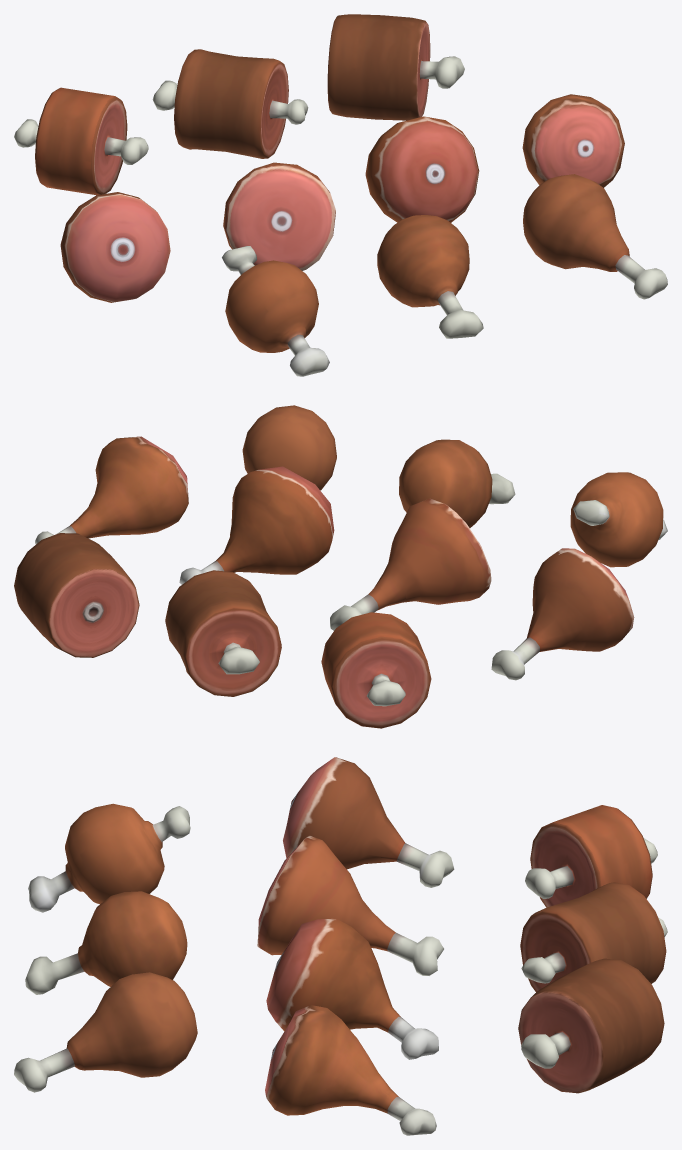
Rendered from Meat.obj.
The picture shows the model from 3 angles, top to bottom: view 1: azimuth 30°, elevation 25°; view 2: azimuth 150°, elevation 25°; view 3: azimuth 270°, elevation 25°; orthographic projection. The views are drawn at different scales.
Visible parts, largest first — view 1: Cube.024_Cube.033, Cube.025_Cube.034, Cube.020_Cube.029, Cube.026_Cube.035, Cube.023_Cube.032, Cube.021_Cube.030, Cube.029_Cube.038, Cube.027_Cube.036, Cube.028_Cube.037, Cube.022_Cube.031; view 2: Cube.025_Cube.034, Cube.024_Cube.033, Cube.026_Cube.035, Cube.023_Cube.032, Cube.021_Cube.030, Cube.020_Cube.029, Cube.022_Cube.031, Cube.027_Cube.036, Cube.028_Cube.037, Cube.029_Cube.038; view 3: Cube.025_Cube.034, Cube.029_Cube.038, Cube.026_Cube.035, Cube.022_Cube.031, Cube.024_Cube.033, Cube.020_Cube.029, Cube.021_Cube.030, Cube.027_Cube.036, Cube.023_Cube.032, Cube.028_Cube.037.
Boxes of the visible parts, x1,y1,x2,y2 form: Cube.024_Cube.033: [152, 49, 308, 158]; Cube.025_Cube.034: [327, 14, 464, 120]; Cube.020_Cube.029: [60, 192, 170, 302]; Cube.026_Cube.035: [365, 116, 479, 222]; Cube.023_Cube.032: [14, 87, 148, 195]; Cube.021_Cube.030: [223, 162, 335, 270]; Cube.029_Cube.038: [523, 174, 667, 299]; Cube.027_Cube.036: [222, 246, 329, 376]; Cube.028_Cube.037: [377, 215, 483, 338]; Cube.022_Cube.031: [522, 94, 624, 187]; Cube.025_Cube.034: [14, 533, 139, 657]; Cube.024_Cube.033: [165, 570, 281, 696]; Cube.026_Cube.035: [179, 466, 334, 584]; Cube.023_Cube.032: [321, 612, 431, 728]; Cube.021_Cube.030: [330, 498, 491, 630]; Cube.020_Cube.029: [491, 548, 634, 680]; Cube.022_Cube.031: [35, 436, 188, 544]; Cube.027_Cube.036: [570, 472, 667, 567]; Cube.028_Cube.037: [399, 439, 515, 527]; Cube.029_Cube.038: [242, 405, 336, 490]; Cube.025_Cube.034: [518, 958, 664, 1093]; Cube.029_Cube.038: [14, 972, 197, 1092]; Cube.026_Cube.035: [266, 918, 438, 1059]; Cube.022_Cube.031: [265, 1005, 436, 1135]; Cube.024_Cube.033: [520, 882, 667, 992]; Cube.020_Cube.029: [283, 757, 454, 887]; Cube.021_Cube.030: [257, 836, 443, 975]; Cube.027_Cube.036: [28, 803, 190, 912]; Cube.023_Cube.032: [525, 805, 657, 907]; Cube.028_Cube.037: [25, 891, 187, 994].
Bounding box in the file's own units: 10.75 × 1.9 × 9.94.
